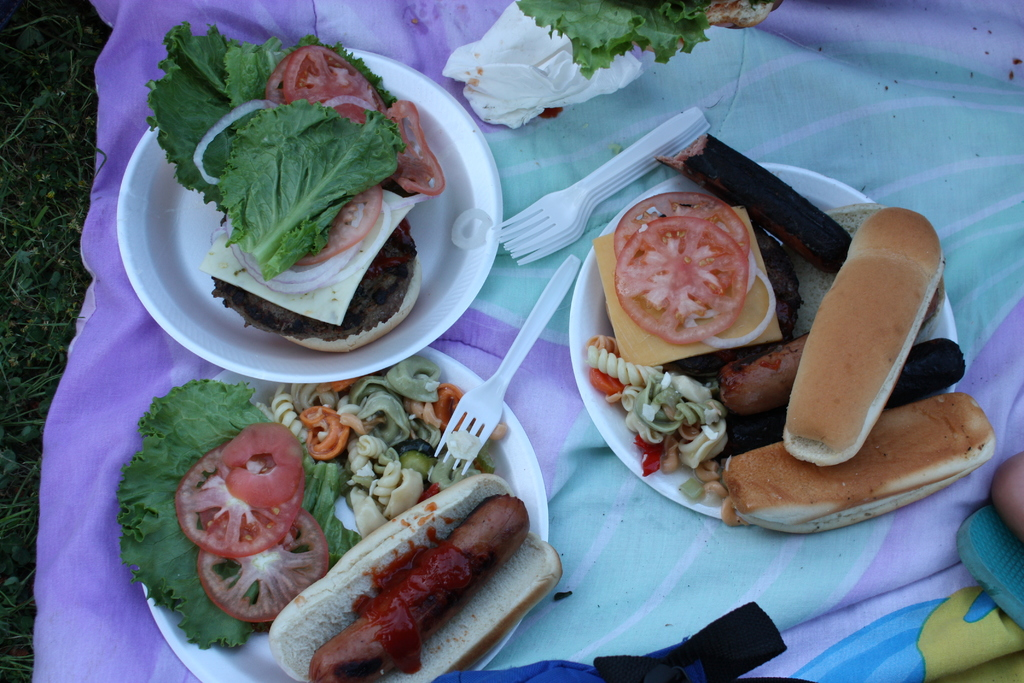hot_dog: (715, 207, 997, 527), (261, 470, 558, 682)
